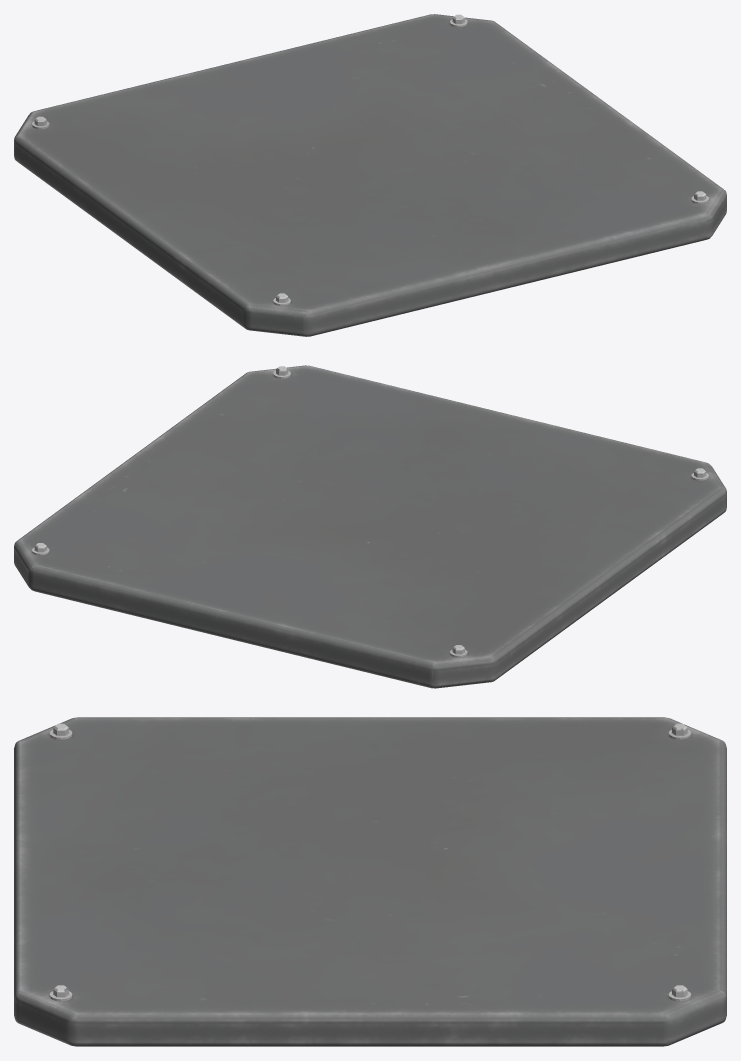
The model's file is SM_PartPlate.glb.
3 renders of one model, top to bottom at view 1: azimuth 30°, elevation 25°; view 2: azimuth 150°, elevation 25°; view 3: azimuth 270°, elevation 25°, orthographic. The views are drawn at different scales.
Visible parts, largest first — view 1: SM_PartPlate; view 2: SM_PartPlate; view 3: SM_PartPlate.
Boxes of the visible parts, x1,y1,x2,y2 form: SM_PartPlate: [14, 14, 726, 336]; SM_PartPlate: [14, 365, 726, 688]; SM_PartPlate: [14, 717, 726, 1046].
Bounding box in the file's own units: 1 × 0.064 × 1.
Materials: 2 (2 with a texture image).
